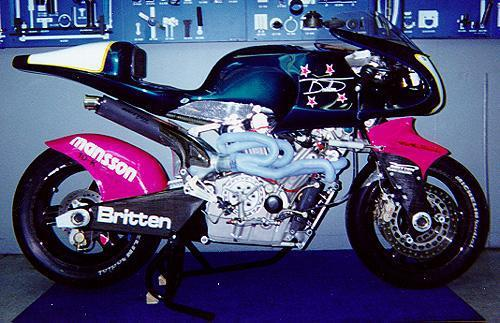Motorcycle: (4, 20, 490, 304)
